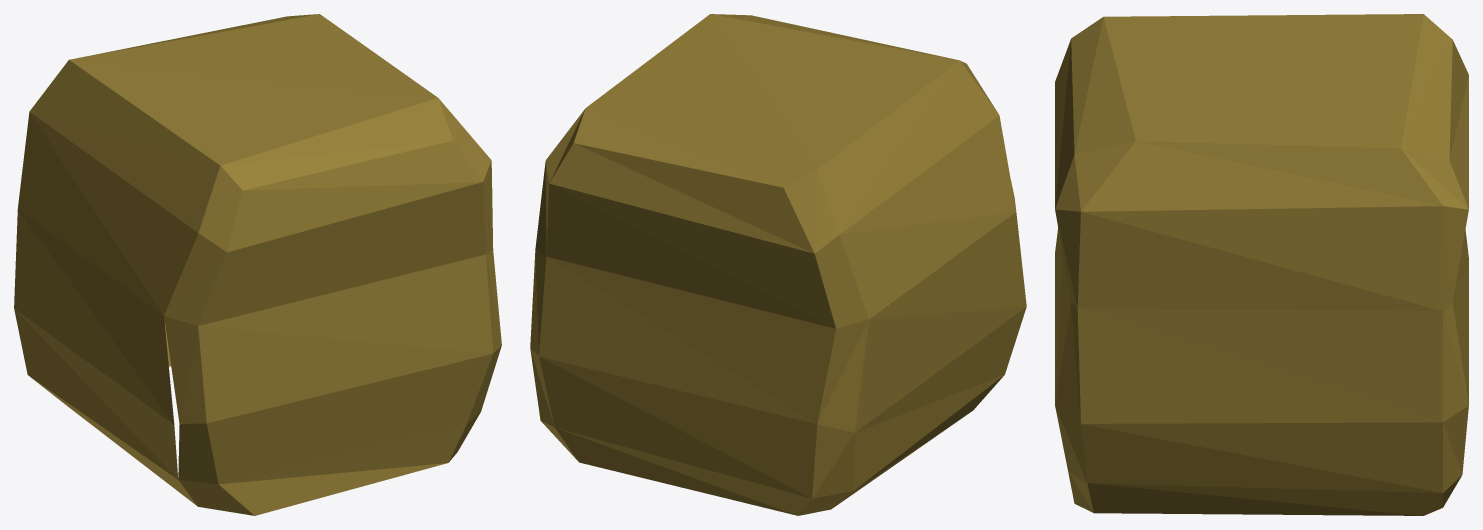
Rendered from obj_brick_8_0.obj.
The picture shows the model from 3 angles, left to right: view 1: azimuth 30°, elevation 25°; view 2: azimuth 150°, elevation 25°; view 3: azimuth 270°, elevation 25°; orthographic projection. The views are drawn at different scales.
Size of the model in its own units: 1 by 0.9922 by 1.
